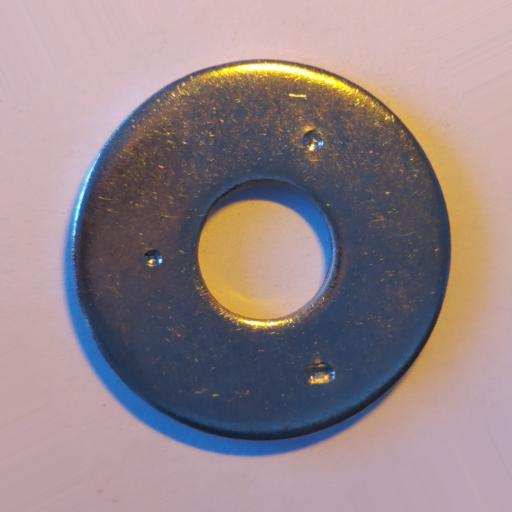circular_cavity: (304, 360, 337, 385), (302, 129, 325, 151), (142, 249, 164, 268)
